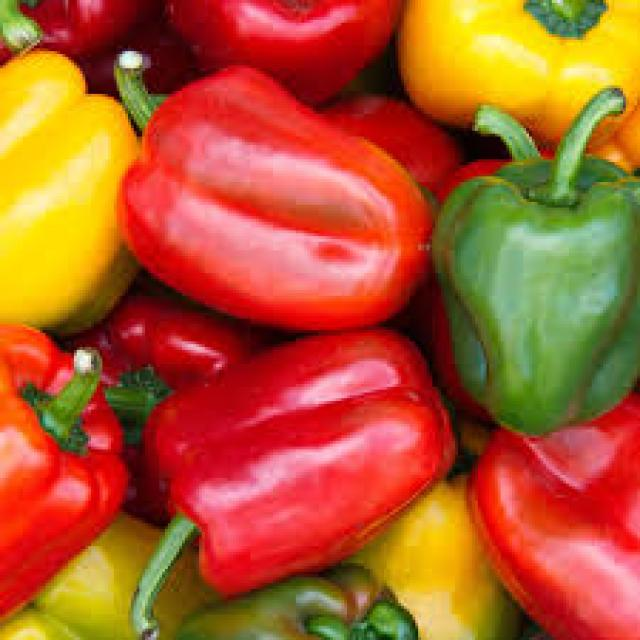bell_pepper: (133, 329, 452, 640), (114, 49, 432, 334), (429, 80, 638, 436), (1, 56, 147, 336), (1, 328, 129, 624)
